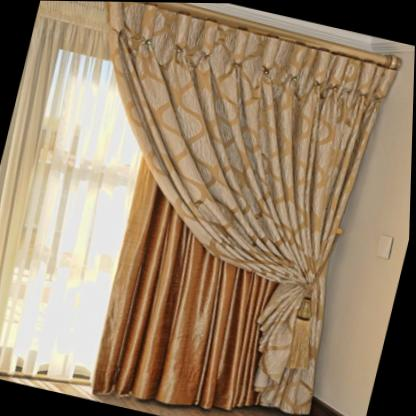Curtains: (102, 1, 401, 414)
